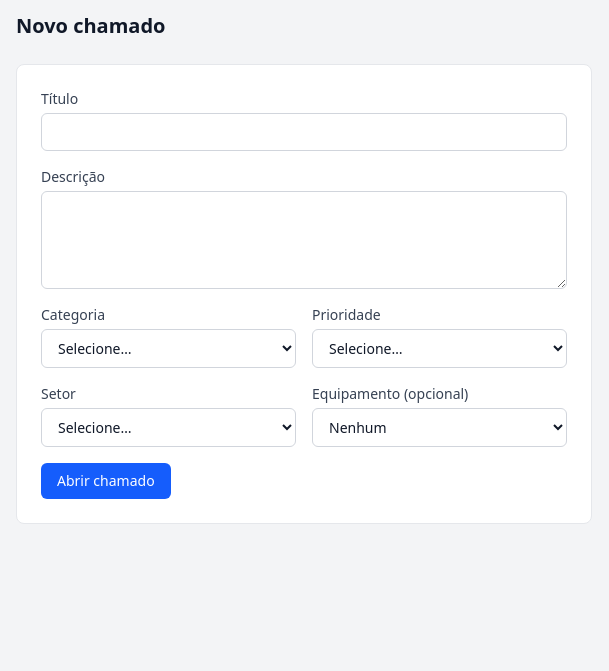
NovoTicket: sugestões da base de conhecimento › depois de uma pausa na digitação, busca com o título e a descrição e mostra o bloco
The width and height of the screenshot is (609, 671).
Type "Impressora" into the field labelled "Título". click: (304, 132)
box: [41,113,567,151]
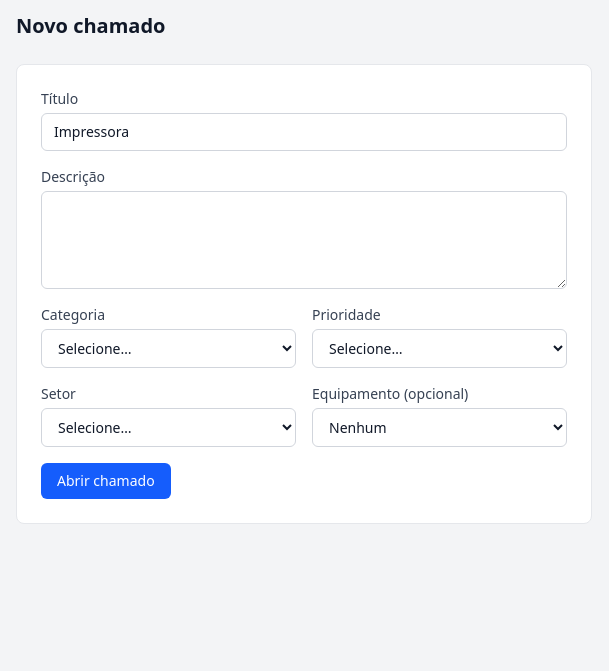
Type "não imprime nada" into the text box labelled "Descrição". click: (304, 240)
box: [41,191,567,289]
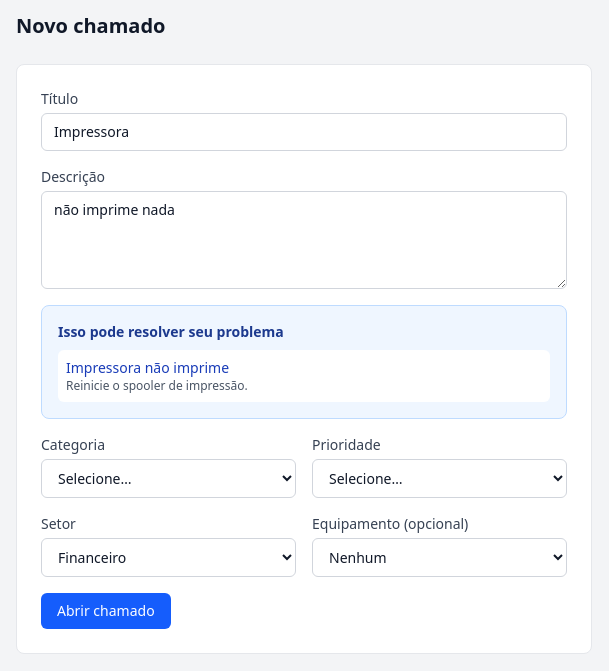
Expected: the text "Impressora não imprime" is shown, [66,358,229,377]
Expected: the text "Reinicie o spooler de impressão." is shown, [66,377,248,394]
